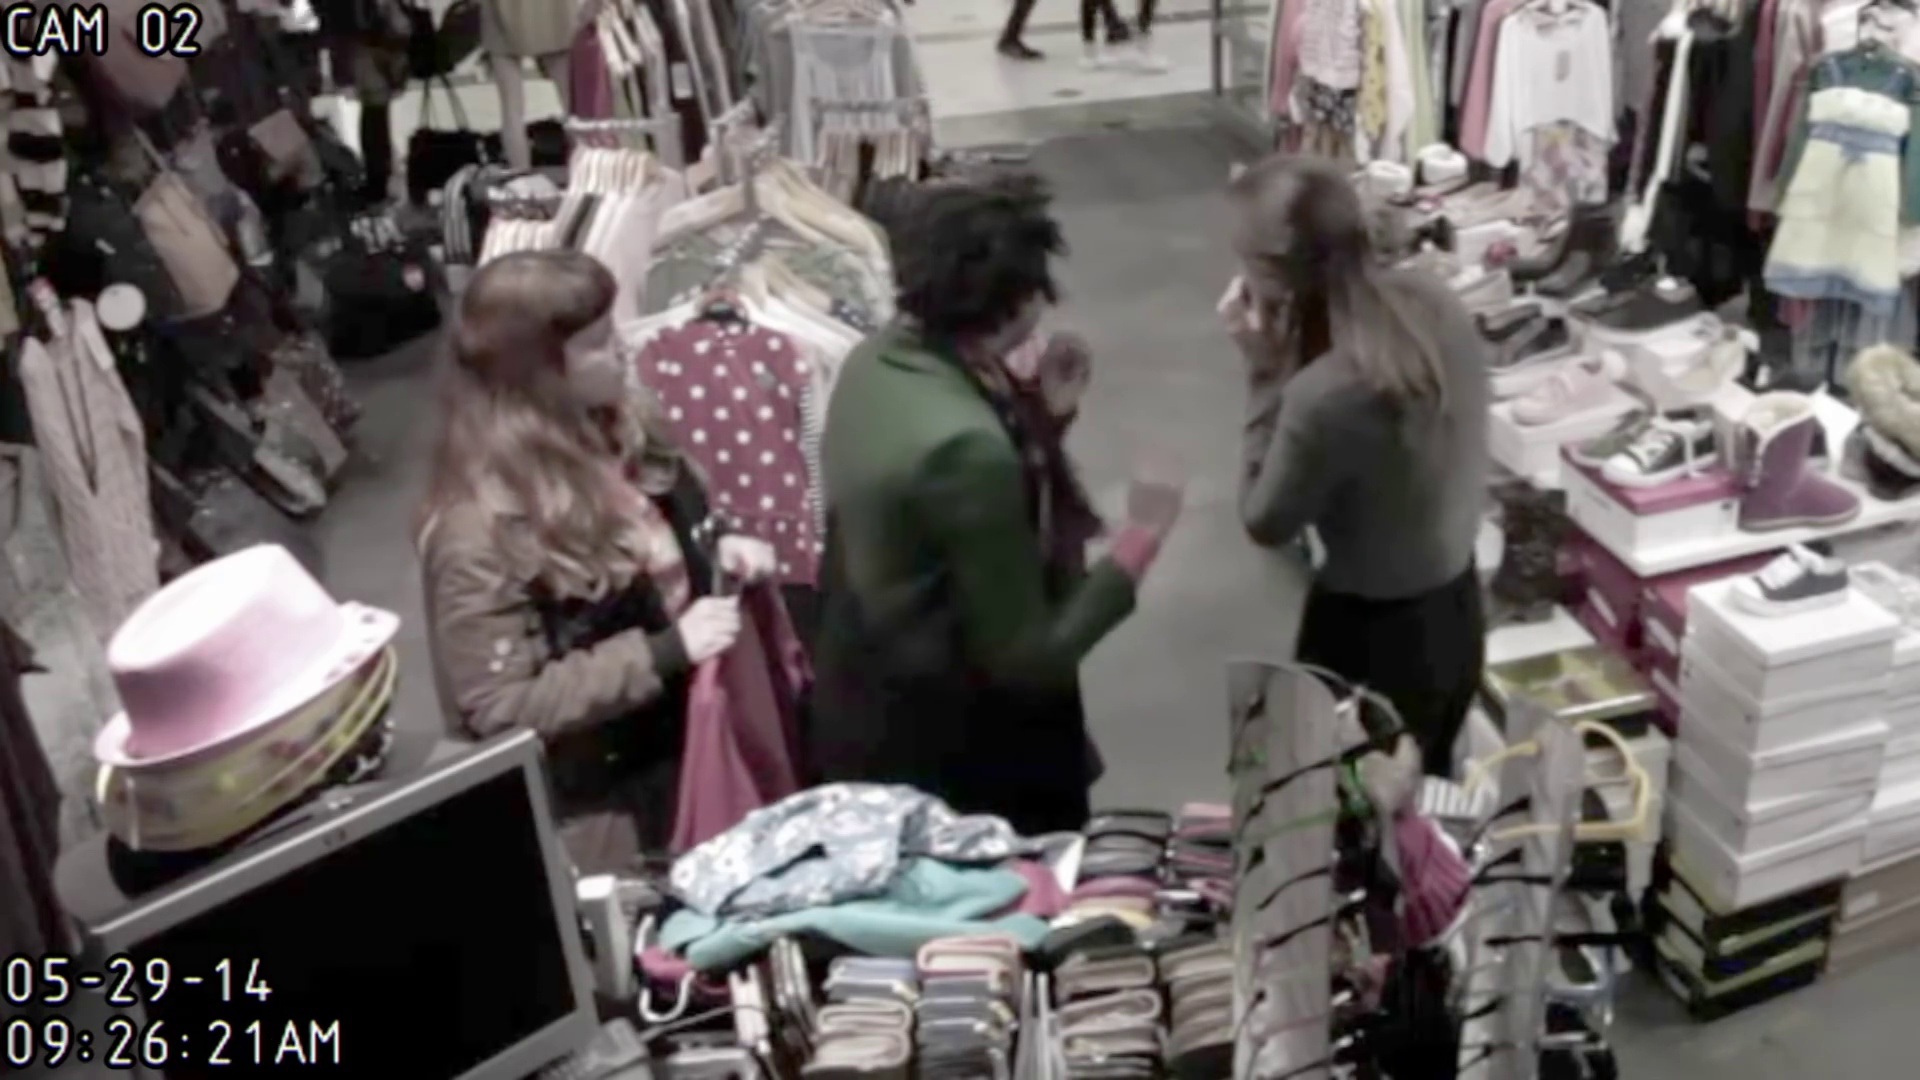face: (553, 311, 638, 411)
